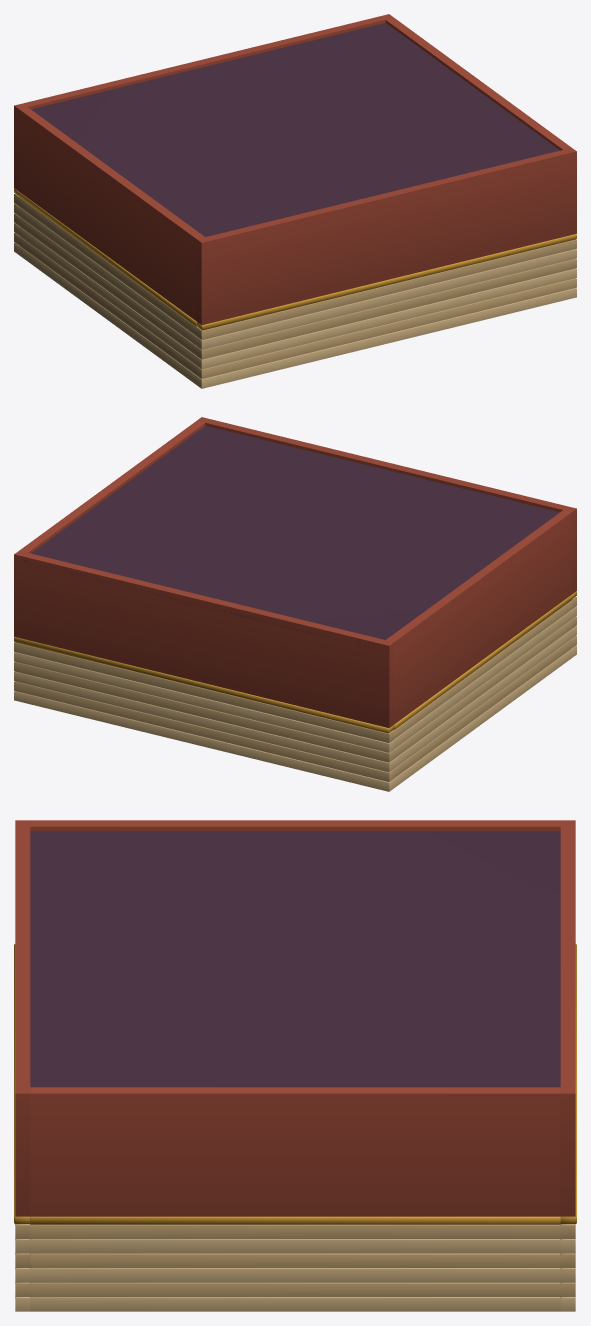
File: garage.glb
The picture shows the model from 3 angles, top to bottom: view 1: azimuth 30°, elevation 25°; view 2: azimuth 150°, elevation 25°; view 3: azimuth 270°, elevation 25°; orthographic projection. The views are drawn at different scales.
Visible parts, largest first — view 1: Set_Room; view 2: Set_Room; view 3: Set_Room.
Part boxes in pixels (bbox=[...]): Set_Room: bbox=[14, 14, 576, 388]; Set_Room: bbox=[14, 417, 576, 791]; Set_Room: bbox=[14, 820, 576, 1311].
Size of what is drawn, in the model's own units: 26.32 by 10.7 by 22.82.
